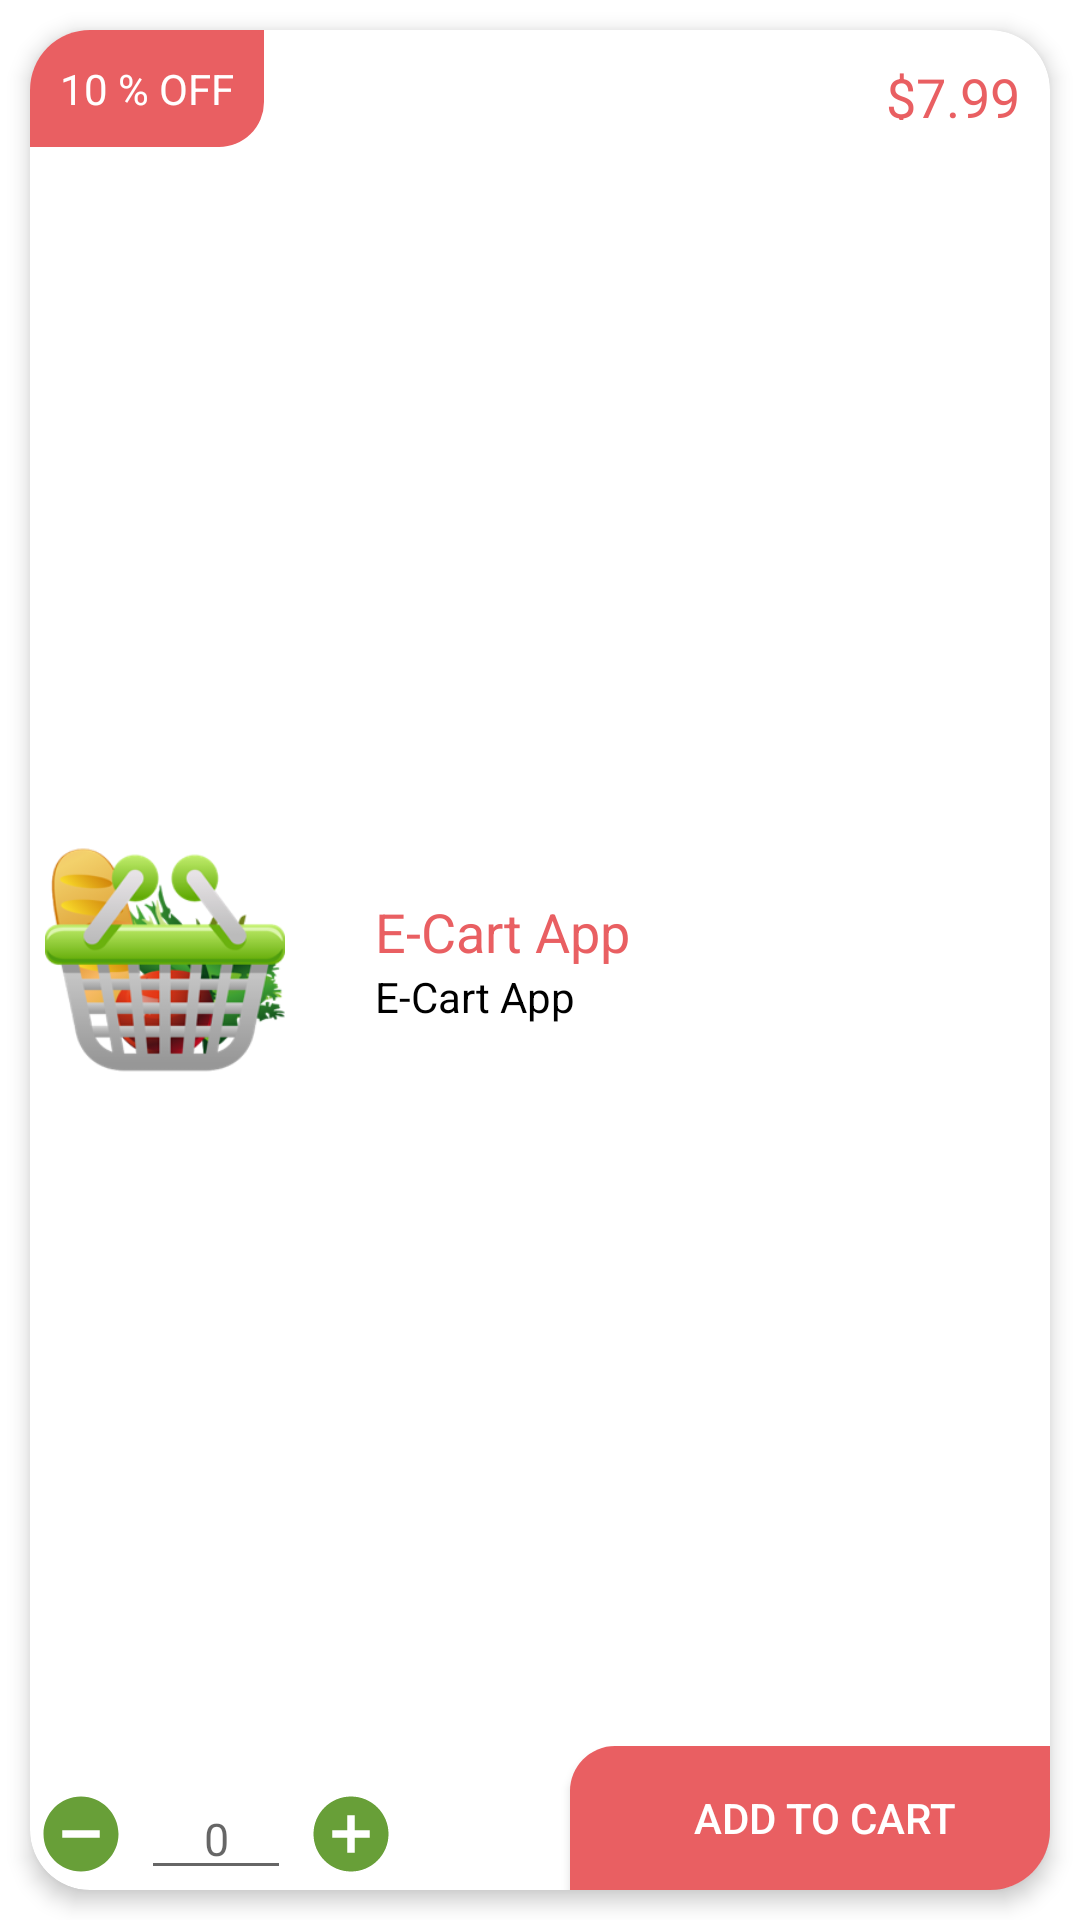

Named icons in this screenshot (1080 x 1920) and their centers, (x,y):
add circle: (351,1834)
minus circle: (81,1834)
